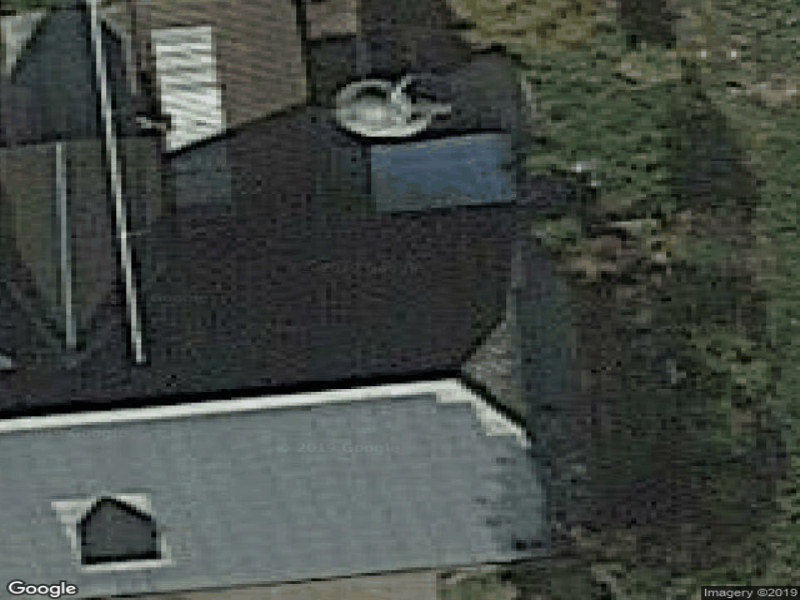pv: (1, 391, 553, 600)
